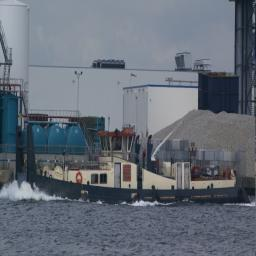tugboat: (15, 123, 253, 215)
